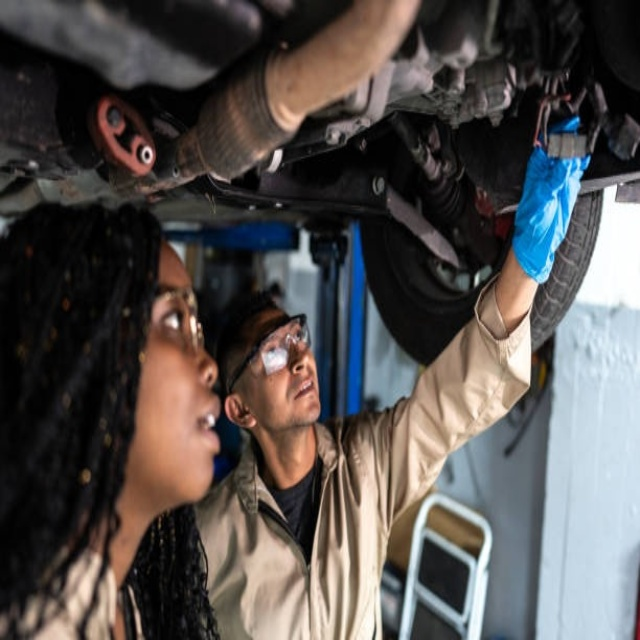Gafas: (224, 313, 310, 394), (139, 285, 207, 357)
Guantes: (511, 119, 590, 283)
Sin_mascara: (179, 391, 226, 474), (287, 373, 318, 419)
